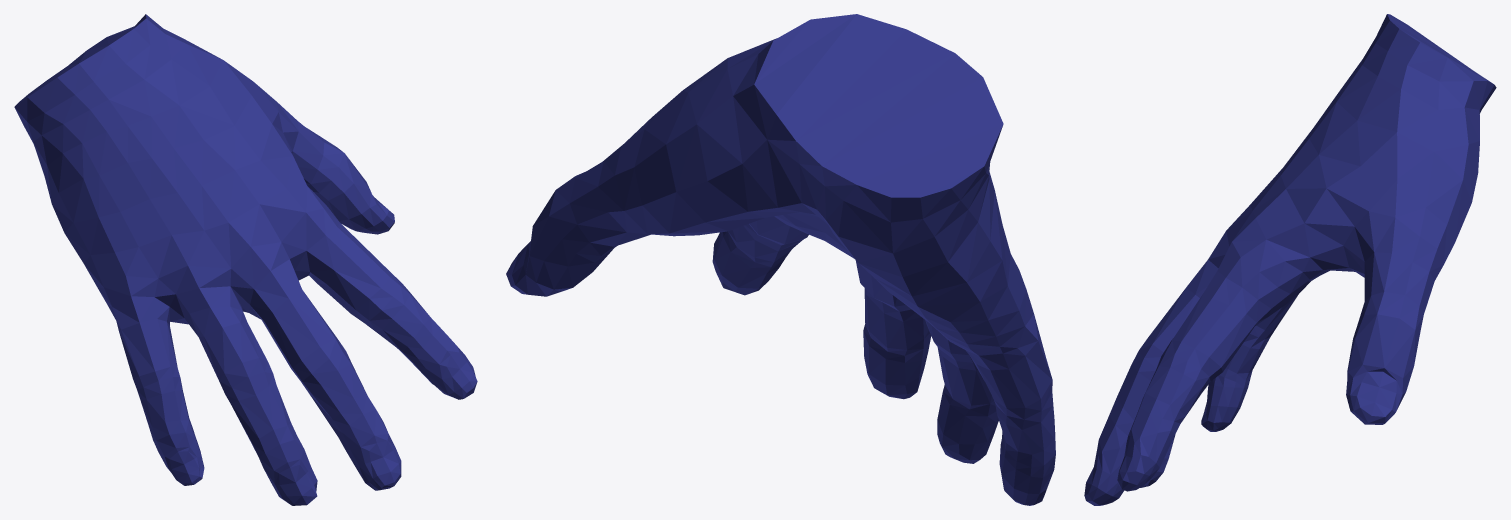
3 views of the same model, side by side, from view 1: azimuth 30°, elevation 25°; view 2: azimuth 150°, elevation 25°; view 3: azimuth 270°, elevation 25° (orthographic). The views are drawn at different scales.
Bounding box in the file's own units: 0.1466 × 0.1603 × 0.1386.
